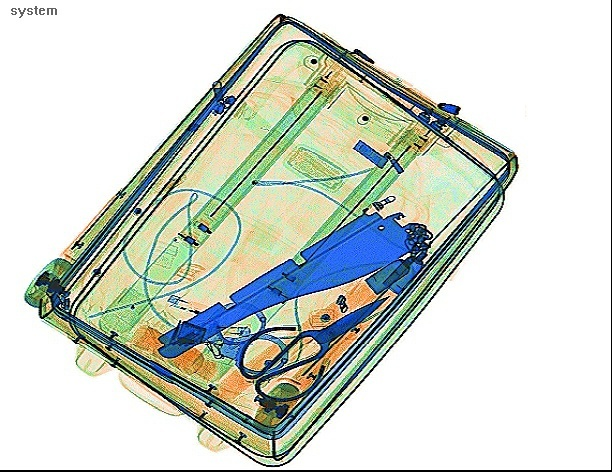handcuffs: (206, 298, 289, 376)
lighter: (167, 293, 214, 318), (191, 323, 252, 341)
scissors: (234, 293, 390, 403)
